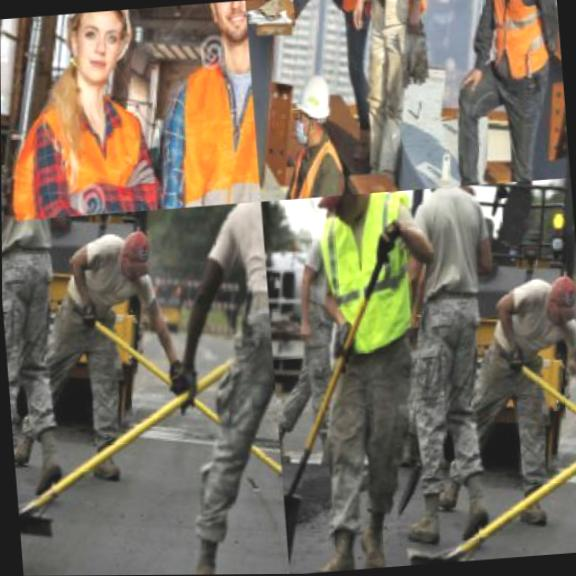safety_vest: (1, 69, 180, 221), (301, 189, 443, 365), (147, 43, 260, 208), (471, 0, 563, 86), (271, 131, 352, 199), (305, 0, 384, 27), (360, 0, 448, 18)
